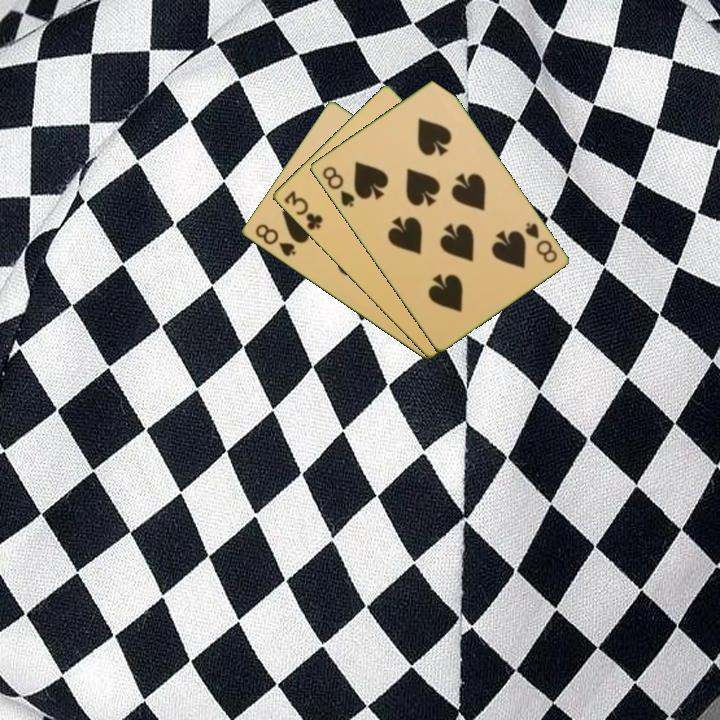3c: (280, 187, 325, 233)
8s: (251, 220, 298, 260), (318, 162, 357, 210), (521, 219, 560, 266)
